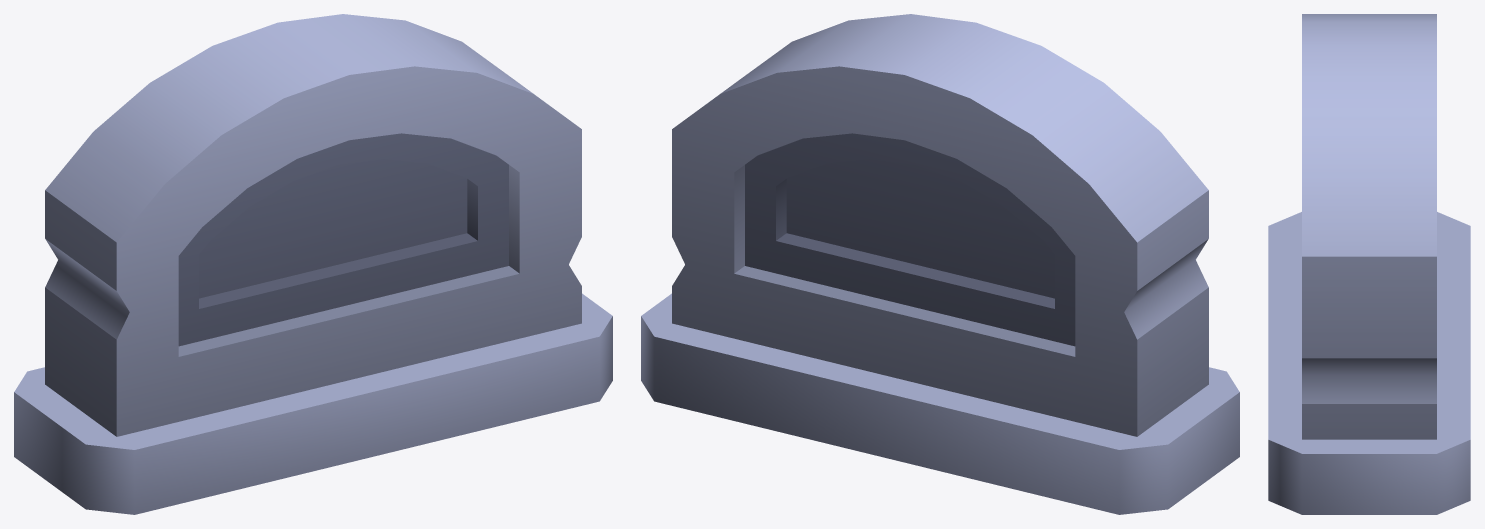
File: gravestone-wide_lev1.glb
3 views of the same model, side by side, from view 1: azimuth 30°, elevation 25°; view 2: azimuth 150°, elevation 25°; view 3: azimuth 270°, elevation 25° (orthographic). The views are drawn at different scales.
Visible parts, largest first — view 1: gravestone-wide_lev1; view 2: gravestone-wide_lev1; view 3: gravestone-wide_lev1.
Boxes of the visible parts, x1,y1,x2,y2 form: gravestone-wide_lev1: [14, 14, 612, 514]; gravestone-wide_lev1: [641, 14, 1239, 514]; gravestone-wide_lev1: [1268, 14, 1470, 514].
Bounding box in the file's own units: 3.4 × 2.28 × 1.2.
1 material, 1 textured.
